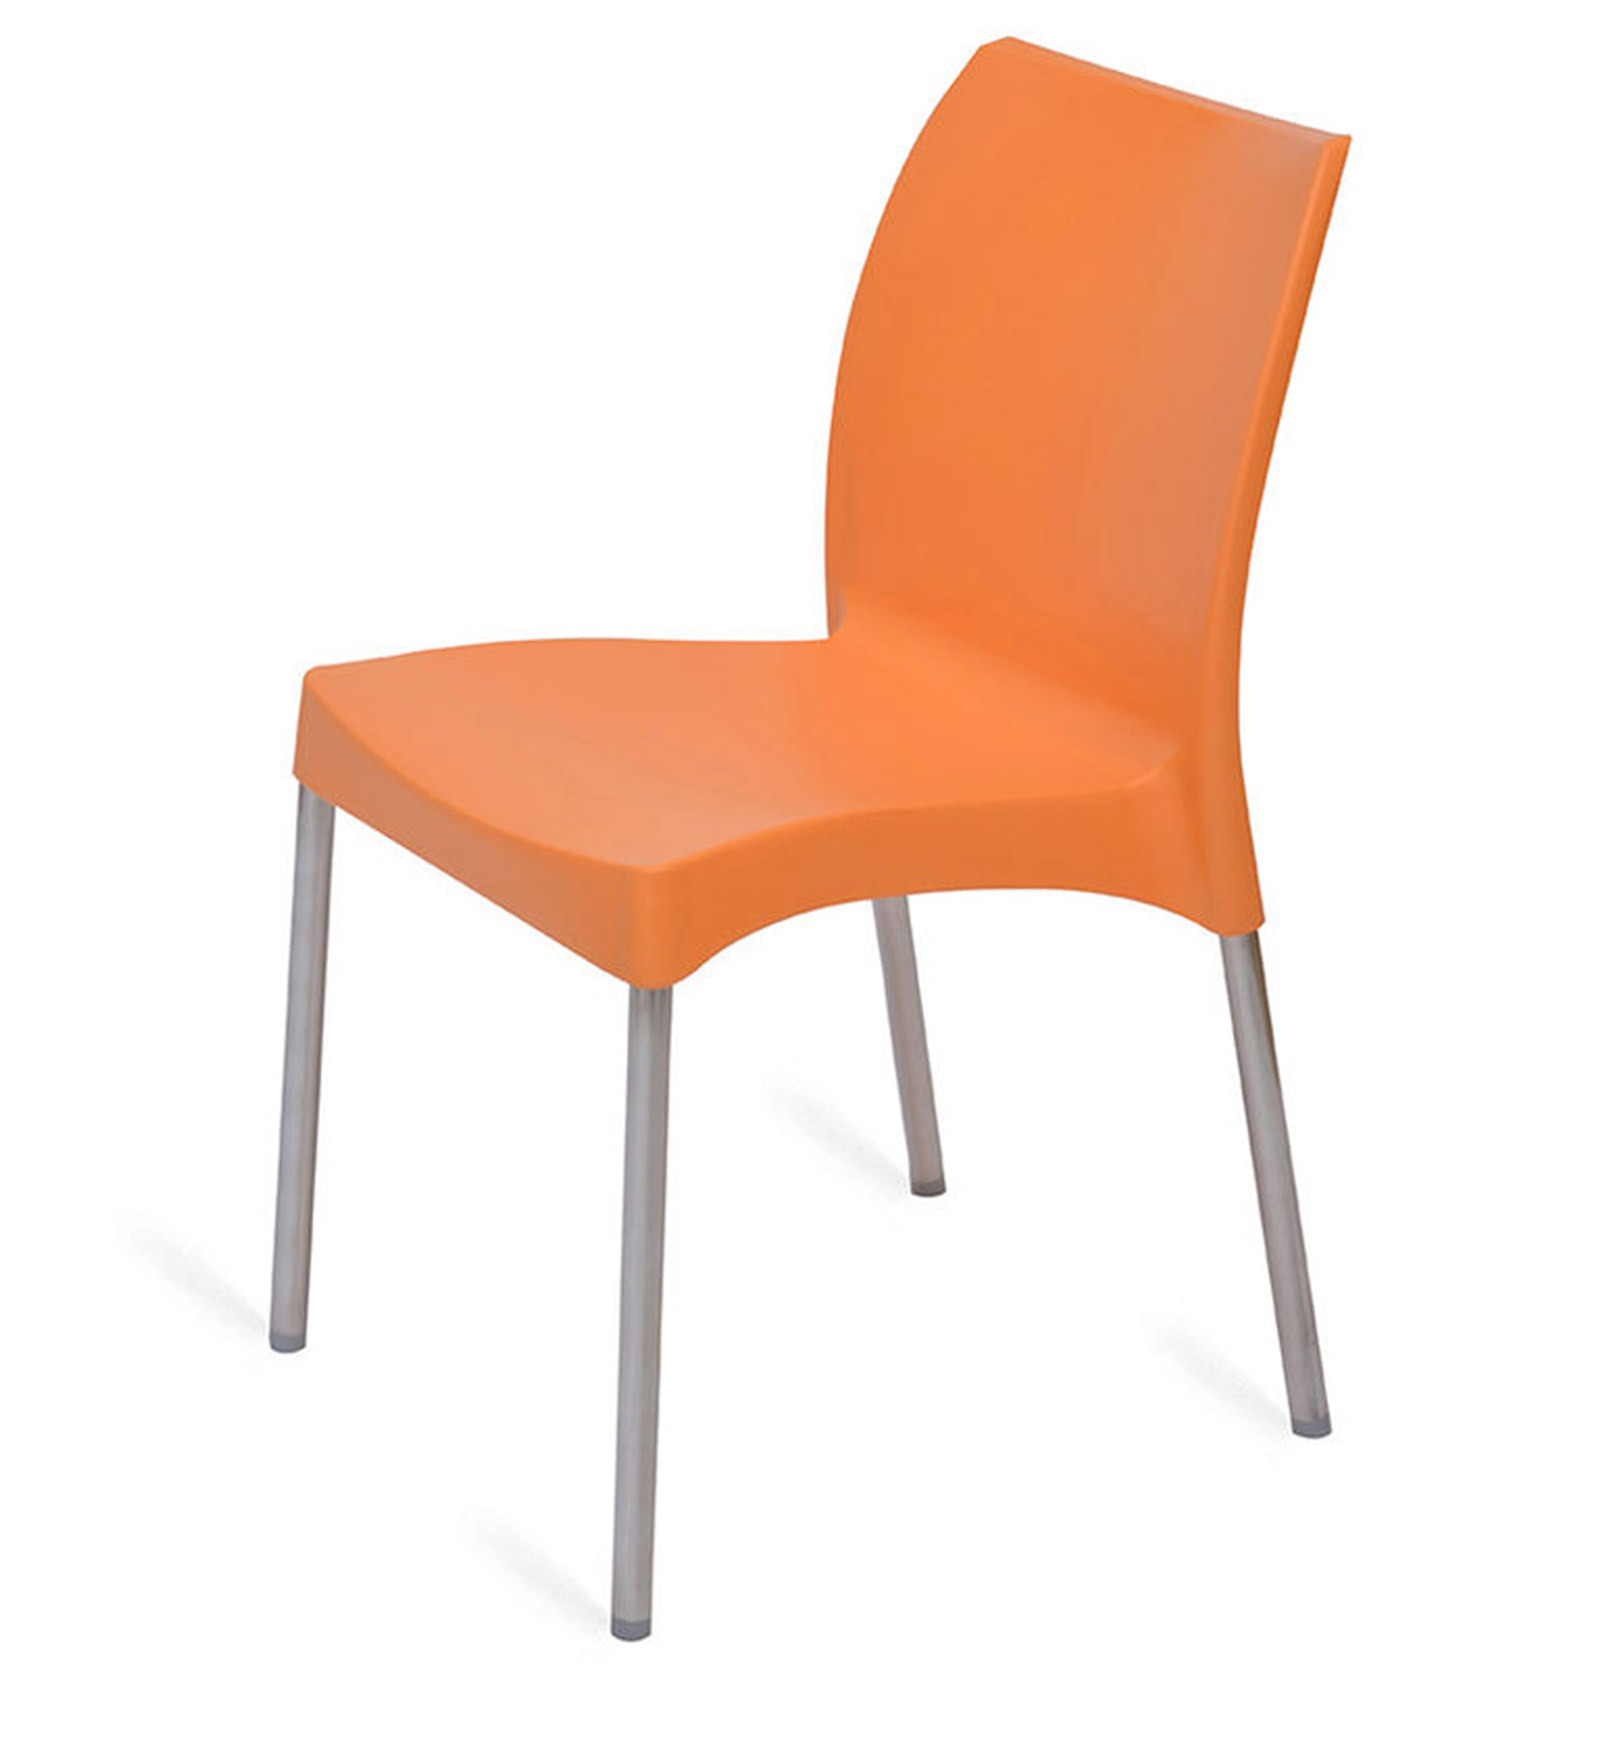Novella Series - 7 Chair (Set of 2) in Orange Colour by Nilkamal: (261, 18, 1353, 1645)
